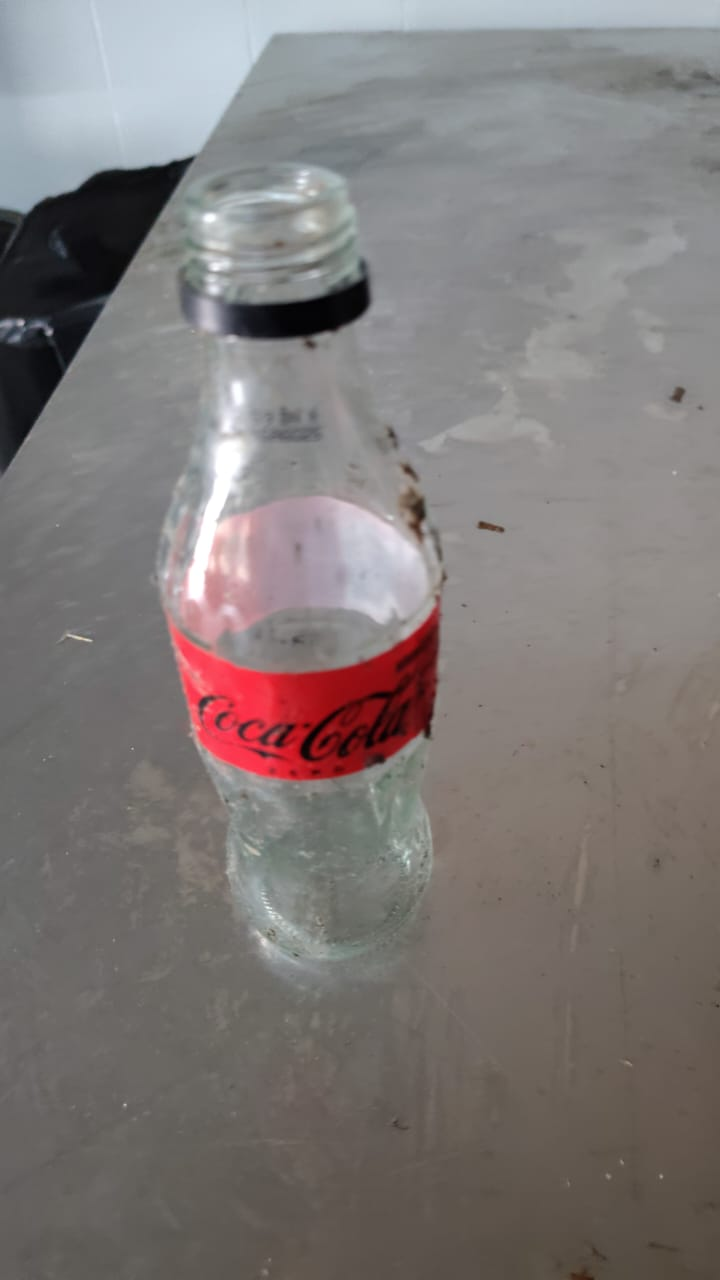Plastico: (150, 166, 441, 959)
